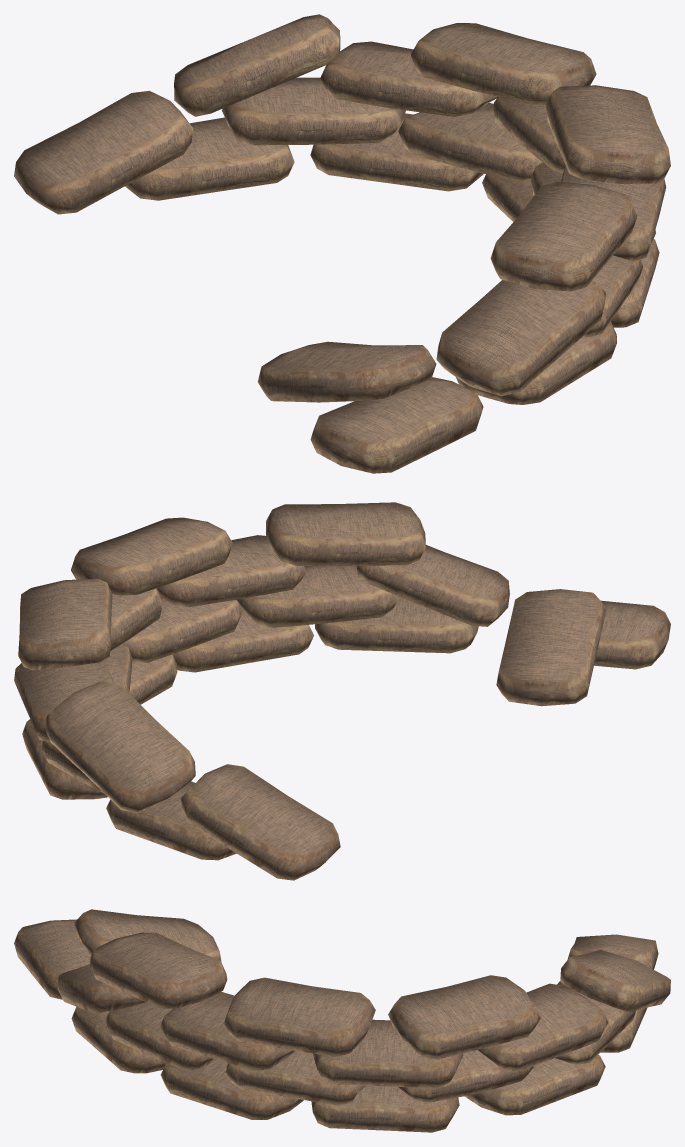
The model's file is Sandbags_Cover.fbx.
3 views of the same model, one above another, from view 1: azimuth 30°, elevation 25°; view 2: azimuth 150°, elevation 25°; view 3: azimuth 270°, elevation 25° (orthographic). The views are drawn at different scales.
Parts seen in each view (by area): view 1: Sandbags_Cover; view 2: Sandbags_Cover; view 3: Sandbags_Cover.
Part boxes in pixels (<box>): Sandbags_Cover: <box>14,14,670,473</box>; Sandbags_Cover: <box>14,502,670,880</box>; Sandbags_Cover: <box>14,909,670,1132</box>.
Size of the model in its own units: 364 by 98.77 by 512.
